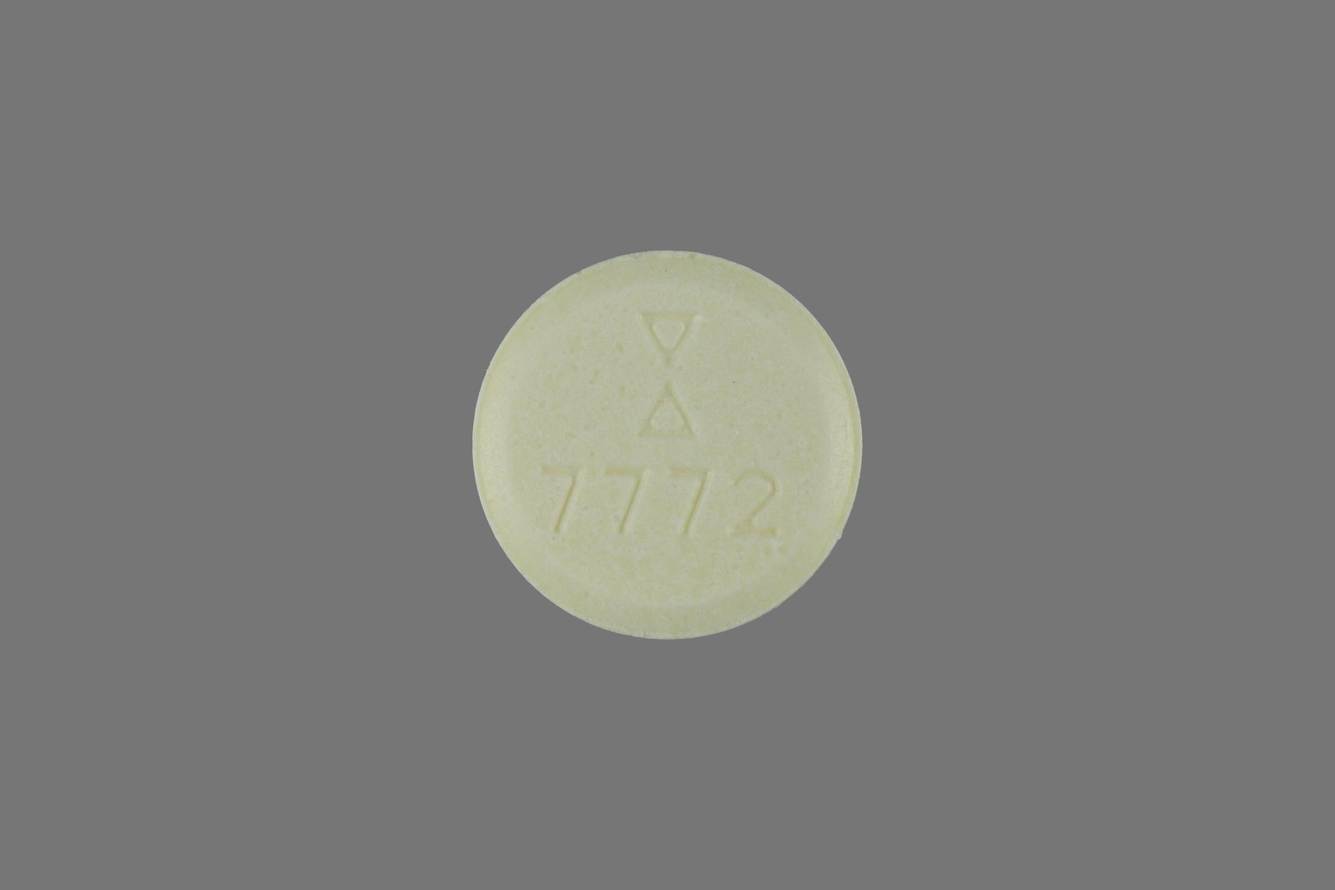Pill: (452, 234, 880, 654)
